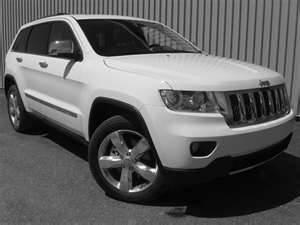car: (7, 15, 296, 203)
